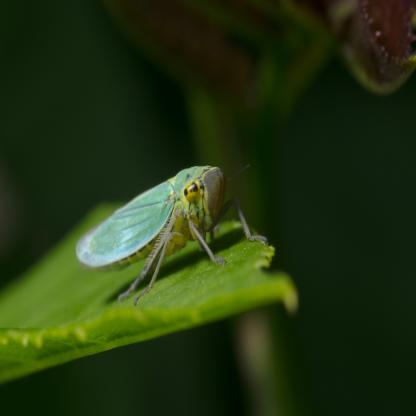Green-Leafhopper: (76, 155, 269, 312)
